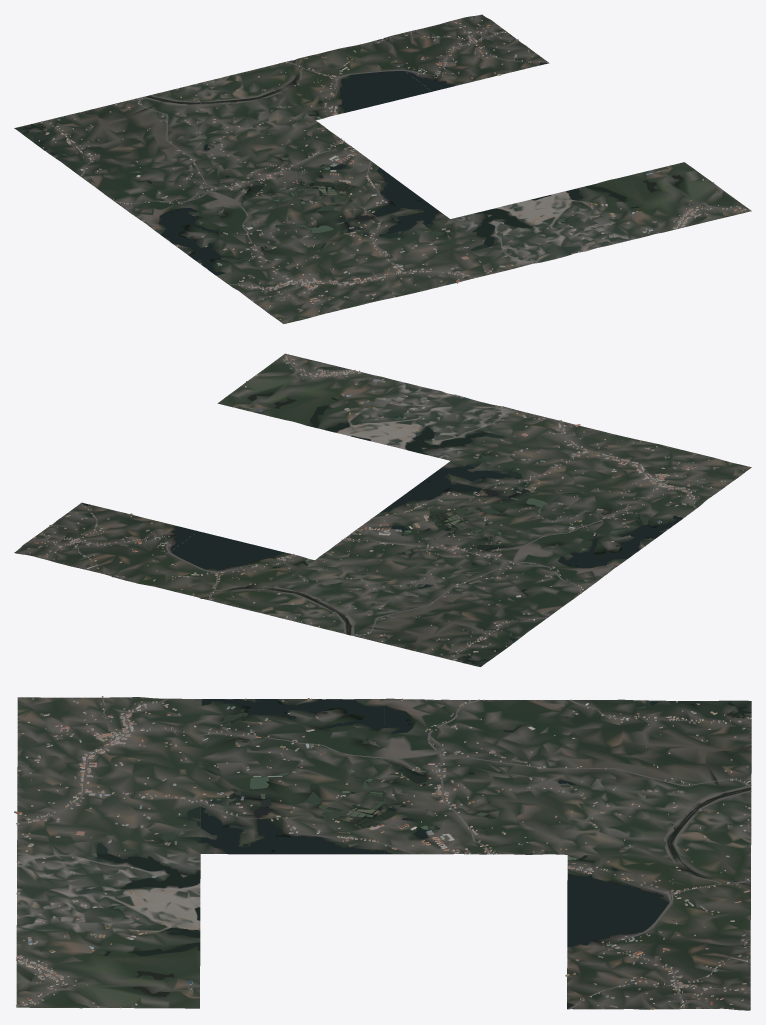
3 renders of one model, top to bottom at view 1: azimuth 30°, elevation 25°; view 2: azimuth 150°, elevation 25°; view 3: azimuth 270°, elevation 25°, orthographic. The views are drawn at different scales.
Visible parts, largest first — view 1: ground, water, buildings, roads; view 2: ground, water, buildings, roads; view 3: ground, water, buildings, roads.
Part boxes in pixels (x1=…): ground: x1=14, y1=14, x2=751, y2=323; water: x1=20, y1=59, x2=705, y2=278; buildings: x1=38, y1=18, x2=749, y2=319; roads: x1=42, y1=20, x2=749, y2=300; ground: x1=14, y1=353, x2=751, y2=666; water: x1=82, y1=367, x2=682, y2=664; buildings: x1=20, y1=354, x2=743, y2=660; roads: x1=40, y1=354, x2=719, y2=660; ground: x1=16, y1=697, x2=751, y2=1010; water: x1=19, y1=699, x2=751, y2=1008; buildings: x1=14, y1=696, x2=751, y2=1009; roads: x1=16, y1=697, x2=751, y2=1009.
Size of the model in its own units: 5617 by 45.08 by 5638.
